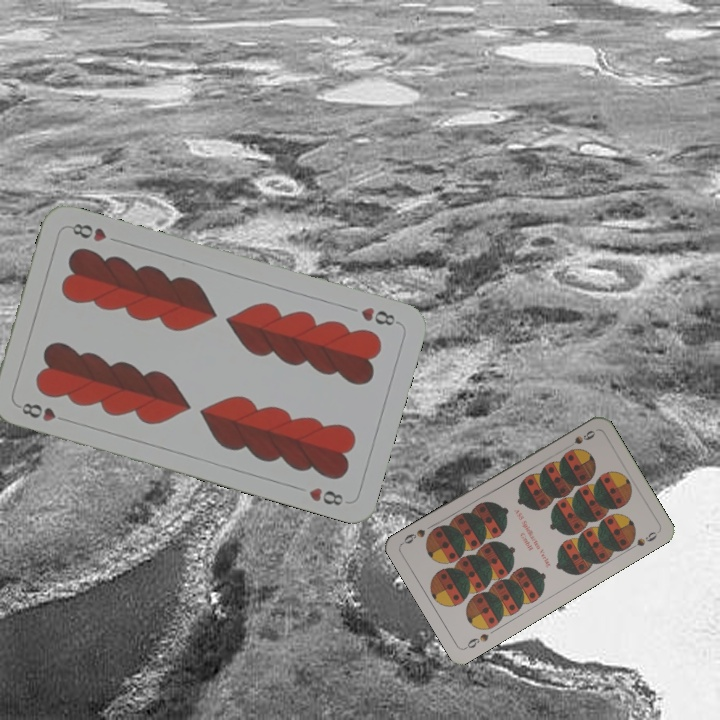H8: (17, 398, 72, 425), (357, 303, 402, 329)
S9: (561, 426, 598, 452), (461, 629, 491, 652)
